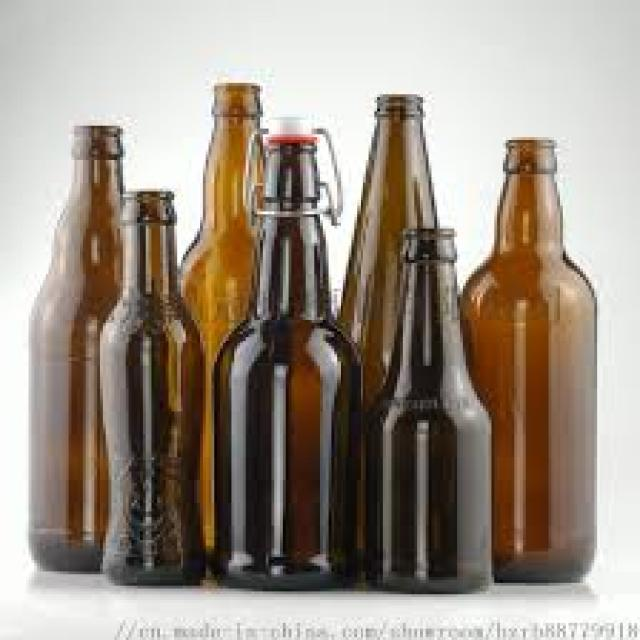glass: (29, 83, 594, 589)
